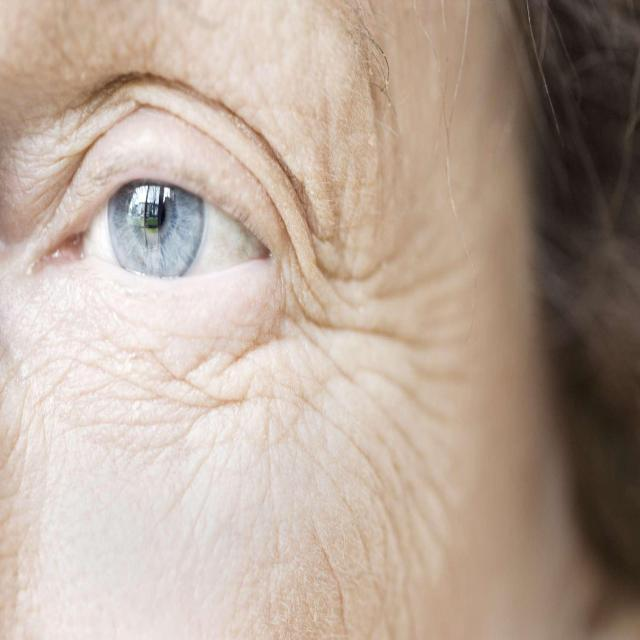Wrinkles: (76, 337, 422, 637), (285, 232, 474, 528)
